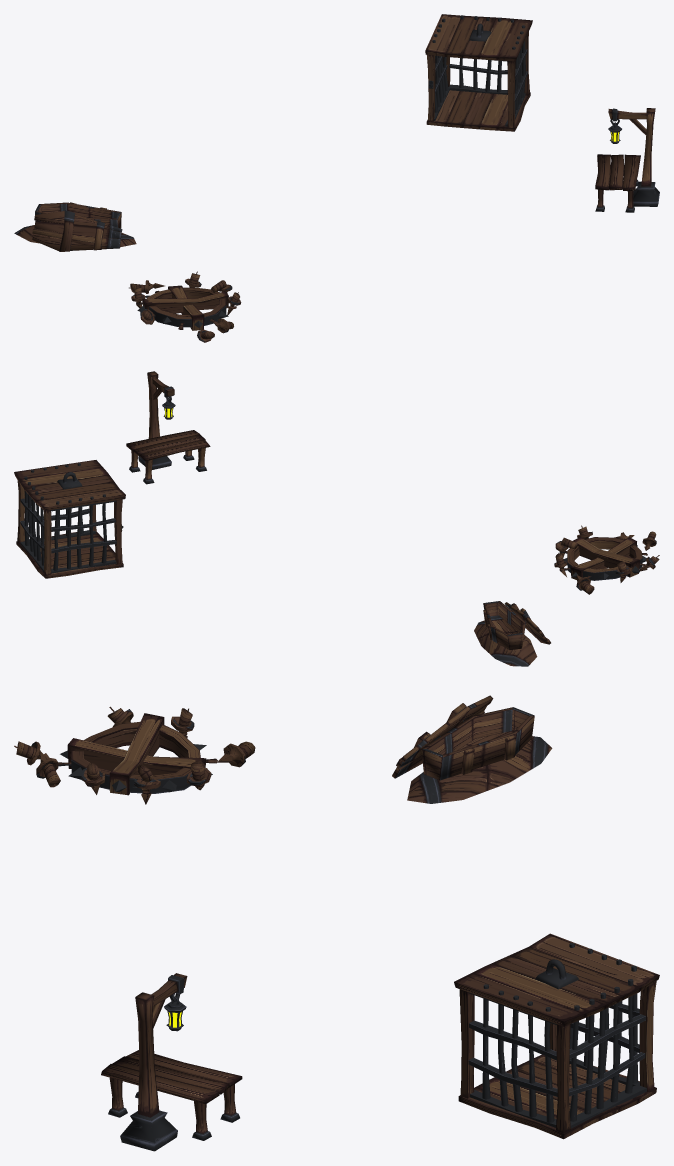
The model's file is PropsHUB1.fbx.
3 renders of one model, top to bottom at view 1: azimuth 30°, elevation 25°; view 2: azimuth 150°, elevation 25°; view 3: azimuth 270°, elevation 25°, orthographic. The views are drawn at different scales.
Visible parts, largest first — view 1: SM_PROP_cage_dungeon_01.001, SM_PROP_chandelier_dungeon_02, SM_PROP_coffin_dungeon_lid.002, SM_PROP_lamp_dungeon_01, SM_PROP_table_dungeon_01, SM_PROP_coffin_dungeon.002; view 2: SM_PROP_cage_dungeon_01.001, SM_PROP_chandelier_dungeon_02, SM_PROP_table_dungeon_01, SM_PROP_coffin_dungeon.002, SM_PROP_lamp_dungeon_01, SM_PROP_dirtpile_dungeon_02.001, SM_PROP_coffin_dungeon_lid.002; view 3: SM_PROP_cage_dungeon_01.001, SM_PROP_chandelier_dungeon_02, SM_PROP_coffin_dungeon.002, SM_PROP_lamp_dungeon_01, SM_PROP_table_dungeon_01, SM_PROP_dirtpile_dungeon_02.001, SM_PROP_coffin_dungeon_lid.002.
Part boxes in pixels (box(x1,y1,x2,y2)): SM_PROP_cage_dungeon_01.001: box(425, 14, 532, 131); SM_PROP_chandelier_dungeon_02: box(129, 271, 241, 342); SM_PROP_coffin_dungeon_lid.002: box(32, 210, 122, 251); SM_PROP_lamp_dungeon_01: box(608, 108, 659, 206); SM_PROP_table_dungeon_01: box(595, 154, 640, 212); SM_PROP_coffin_dungeon.002: box(35, 202, 121, 231); SM_PROP_cage_dungeon_01.001: box(14, 460, 125, 578); SM_PROP_chandelier_dungeon_02: box(554, 525, 659, 594); SM_PROP_table_dungeon_01: box(126, 430, 210, 484); SM_PROP_coffin_dungeon.002: box(483, 601, 526, 649); SM_PROP_lamp_dungeon_01: box(138, 371, 175, 469); SM_PROP_dirtpile_dungeon_02.001: box(474, 620, 537, 666); SM_PROP_coffin_dungeon_lid.002: box(504, 602, 550, 644); SM_PROP_cage_dungeon_01.001: box(454, 933, 659, 1139); SM_PROP_chandelier_dungeon_02: box(14, 706, 255, 804); SM_PROP_coffin_dungeon.002: box(421, 707, 534, 780); SM_PROP_lamp_dungeon_01: box(120, 973, 187, 1151); SM_PROP_table_dungeon_01: box(101, 1050, 242, 1140); SM_PROP_dirtpile_dungeon_02.001: box(407, 736, 552, 803); SM_PROP_coffin_dungeon_lid.002: box(392, 695, 493, 778).
Bounding box in the file's own units: 15.45 × 2.62 × 10.2.
8 materials, 7 textured.
